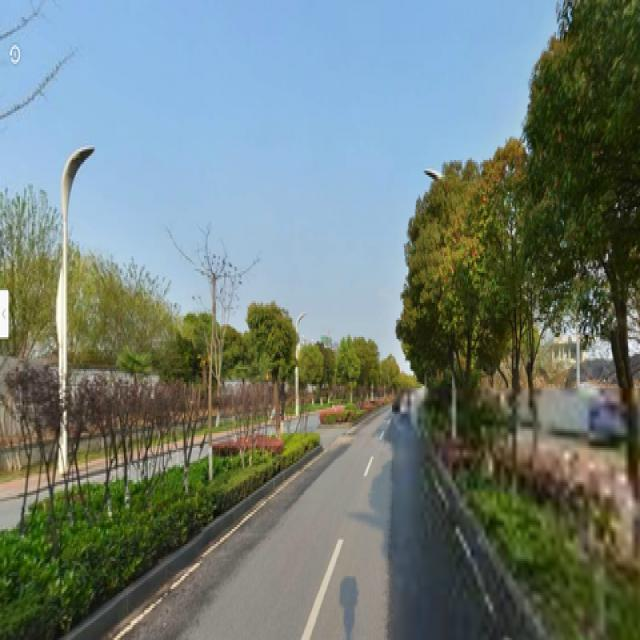cinn: (482, 188, 542, 465)
